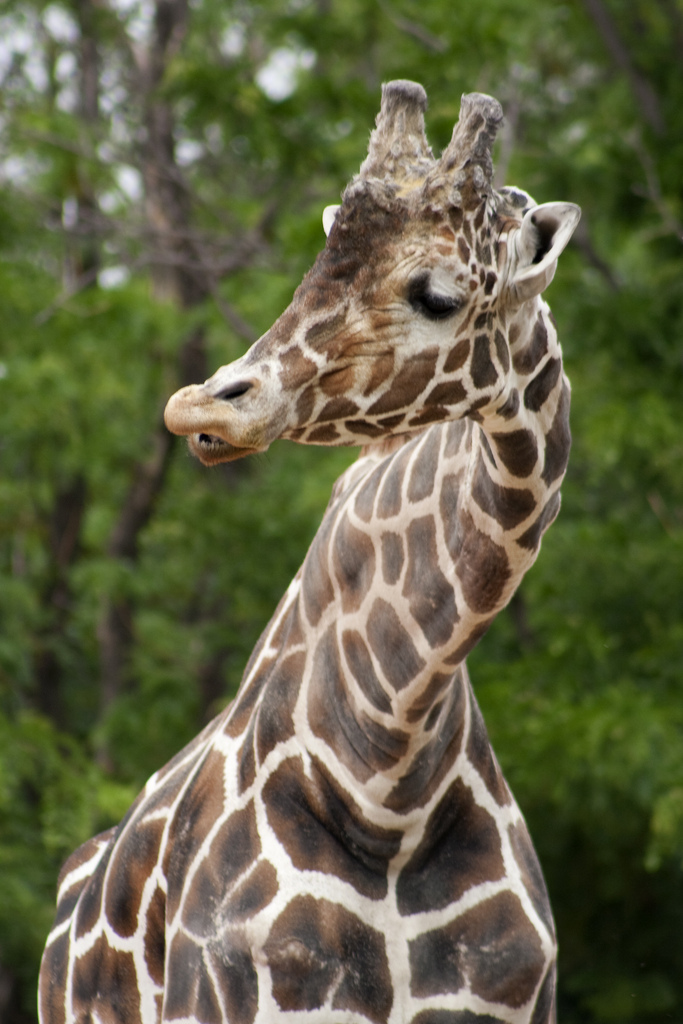giraffe: (96, 63, 601, 947)
